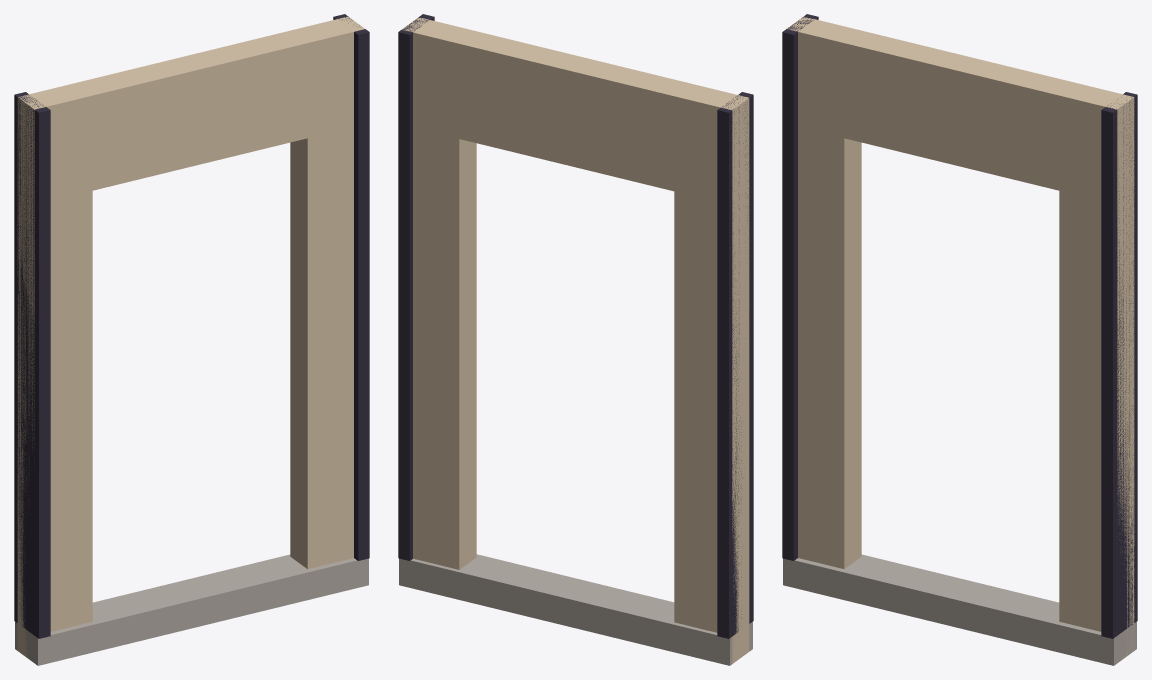
The model's file is SM_Cafe_Wall_Door_2m.fbx.
The picture shows the model from 3 angles, left to right: view 1: azimuth 30°, elevation 25°; view 2: azimuth 150°, elevation 25°; view 3: azimuth 330°, elevation 25°; orthographic projection.
Parts seen in each view (by area): view 1: SM_Cafe_Wall_Door_2m; view 2: SM_Cafe_Wall_Door_2m; view 3: SM_Cafe_Wall_Door_2m.
Part boxes in pixels (x1,y1,x2,y2): SM_Cafe_Wall_Door_2m: (14,14,369,665); SM_Cafe_Wall_Door_2m: (398,14,753,665); SM_Cafe_Wall_Door_2m: (782,14,1137,665).
Bounding box in the file's own units: 2 × 0.26 × 3.2.
